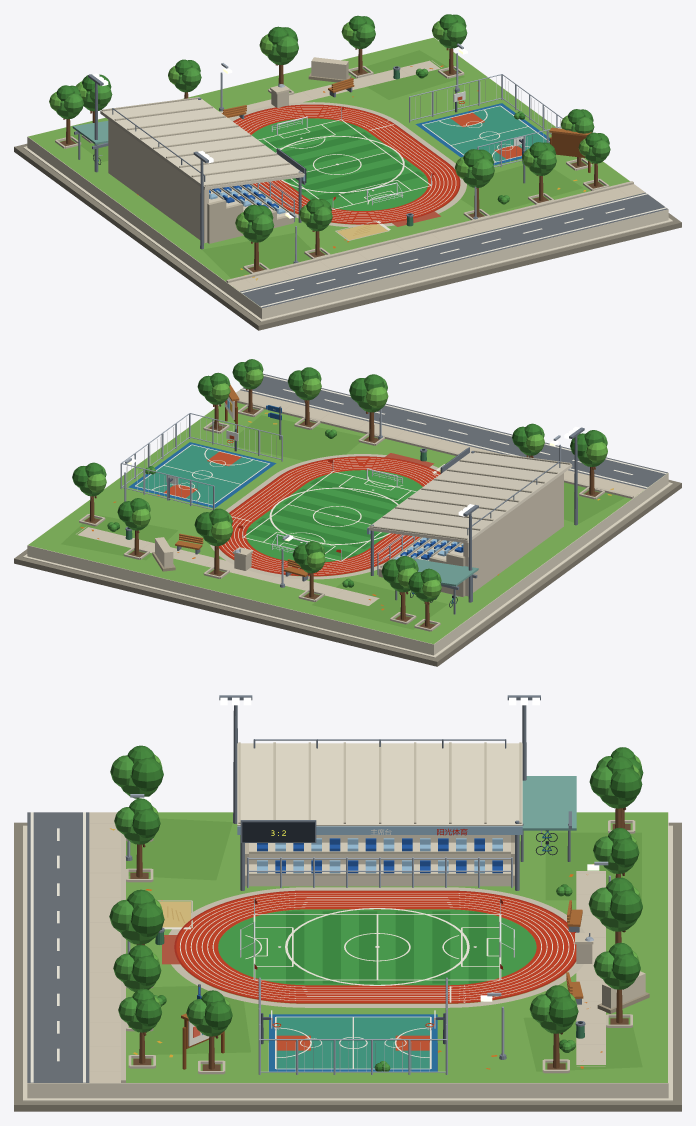
Rendered from env_campus_field.glb.
3 views of the same model, one above another, from view 1: azimuth 30°, elevation 25°; view 2: azimuth 150°, elevation 25°; view 3: azimuth 270°, elevation 25° (orthographic). The views are drawn at different scales.
Parts seen in each view (by area): view 1: GrassTop, Road, Roof, BaseSlab, TrackRed, BasePlinth, Turf, StandBackWall, Walk, CourtFloor, GrassPatch3, GrassPatch2 (+19 smaller); view 2: GrassTop, Roof, BaseSlab, Road, BasePlinth, TrackRed, Turf, StandBackWall, CourtFloor, GrassPatch3, Walk, GrassPatch0 (+17 smaller); view 3: GrassTop, Roof, TrackRed, Road, Turf, BasePlinth, BaseSlab, Walk, CourtFloor, BaseLip, GrassPatch2, WalkNorth (+44 smaller).
Boxes of the visible parts, x1,y1,x2,y2 form: GrassTop: [28, 37, 629, 281]; Road: [240, 192, 667, 308]; Roof: [100, 99, 304, 189]; BaseSlab: [27, 37, 668, 319]; TrackRed: [234, 105, 458, 224]; BasePlinth: [14, 143, 681, 330]; Turf: [252, 118, 428, 210]; StandBackWall: [108, 120, 208, 243]; Walk: [228, 184, 644, 291]; CourtFloor: [423, 106, 549, 161]; GrassPatch3: [460, 165, 582, 214]; GrassPatch2: [202, 233, 314, 278]; GrassTop: [28, 402, 642, 644]; Roof: [368, 452, 572, 543]; BaseSlab: [27, 389, 668, 655]; Road: [240, 373, 667, 488]; BasePlinth: [14, 480, 681, 666]; TrackRed: [219, 457, 440, 576]; Turf: [246, 470, 422, 562]; StandBackWall: [463, 473, 563, 596]; CourtFloor: [136, 445, 268, 504]; GrassPatch3: [227, 415, 362, 461]; Walk: [236, 390, 645, 497]; GrassPatch0: [312, 580, 447, 629]; GrassTop: [126, 812, 667, 1082]; Roof: [237, 743, 522, 826]; TrackRed: [176, 891, 576, 1003]; Road: [27, 812, 89, 1082]; Turf: [218, 909, 536, 985]; BasePlinth: [14, 822, 681, 1111]; BaseSlab: [27, 812, 668, 1098]; Walk: [89, 812, 120, 1082]; CourtFloor: [276, 1017, 429, 1068]; BaseLip: [23, 825, 672, 1101]; GrassPatch2: [126, 818, 232, 880]; WalkNorth: [576, 871, 605, 1064].
Size of the model in its own units: 12.5 by 3.08 by 12.5.
